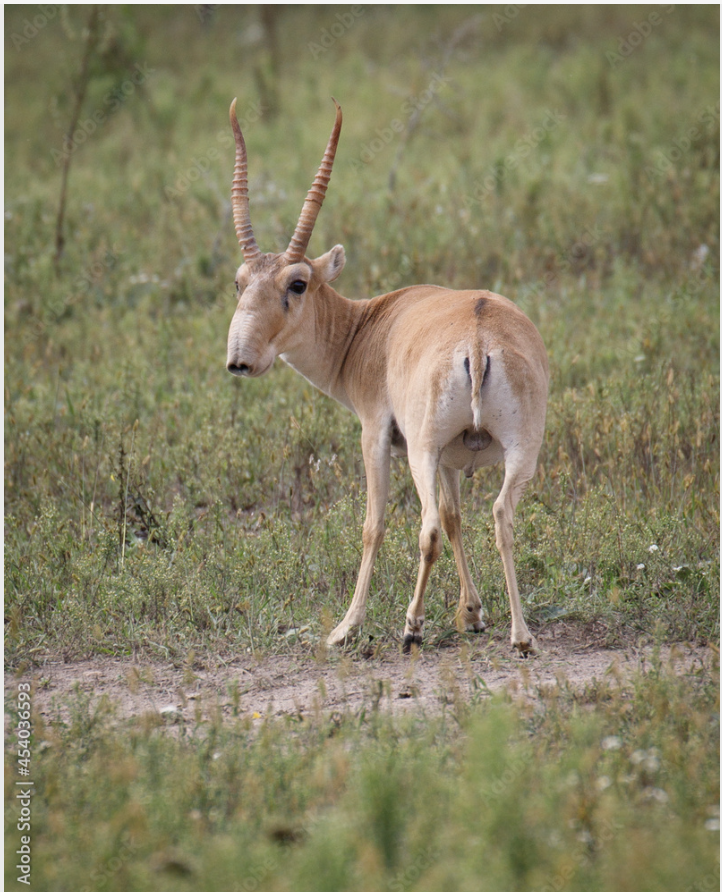saiga: (213, 83, 548, 654)
